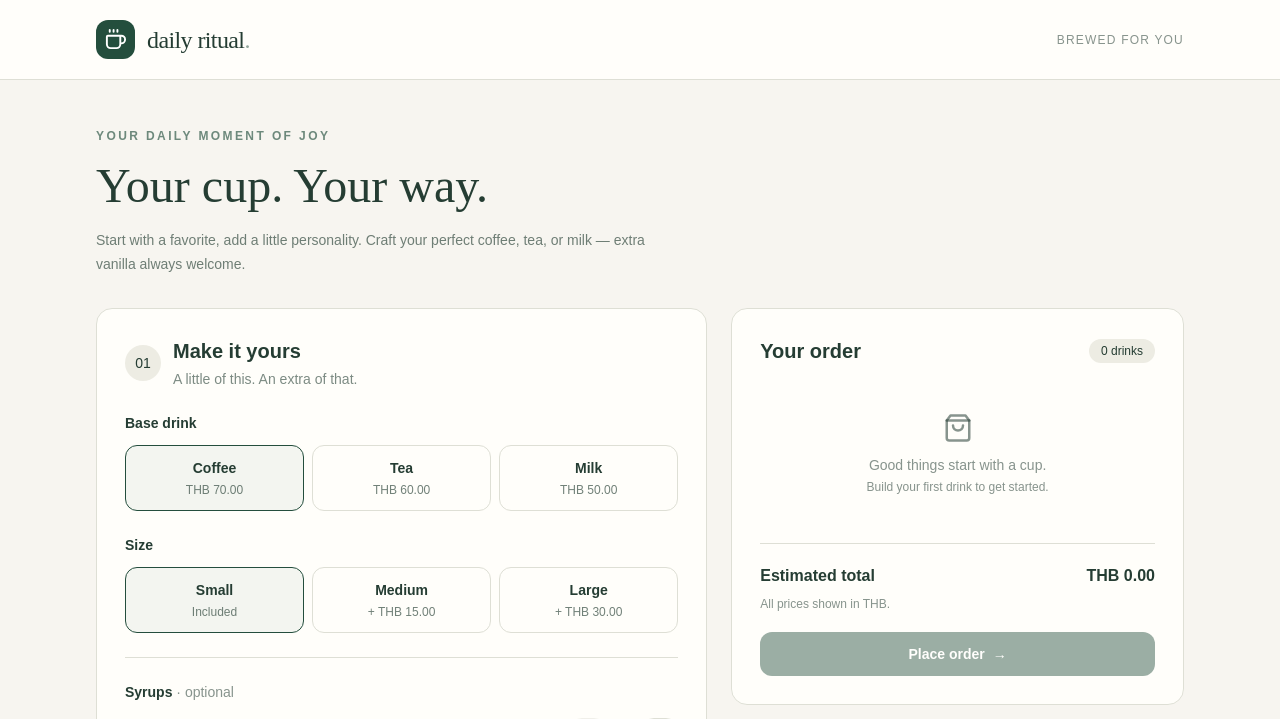
Scenario: Coffee ordering › selects Tea as base
Expected: the heading "Make it yours" is shown, [173, 340, 301, 362]
What coordinates should you click on to do the following:
click the radio button labelled "Tea THB 60.00"
I would click on:
 (402, 478)
Its box is [312, 445, 491, 511].
(page scrolled)
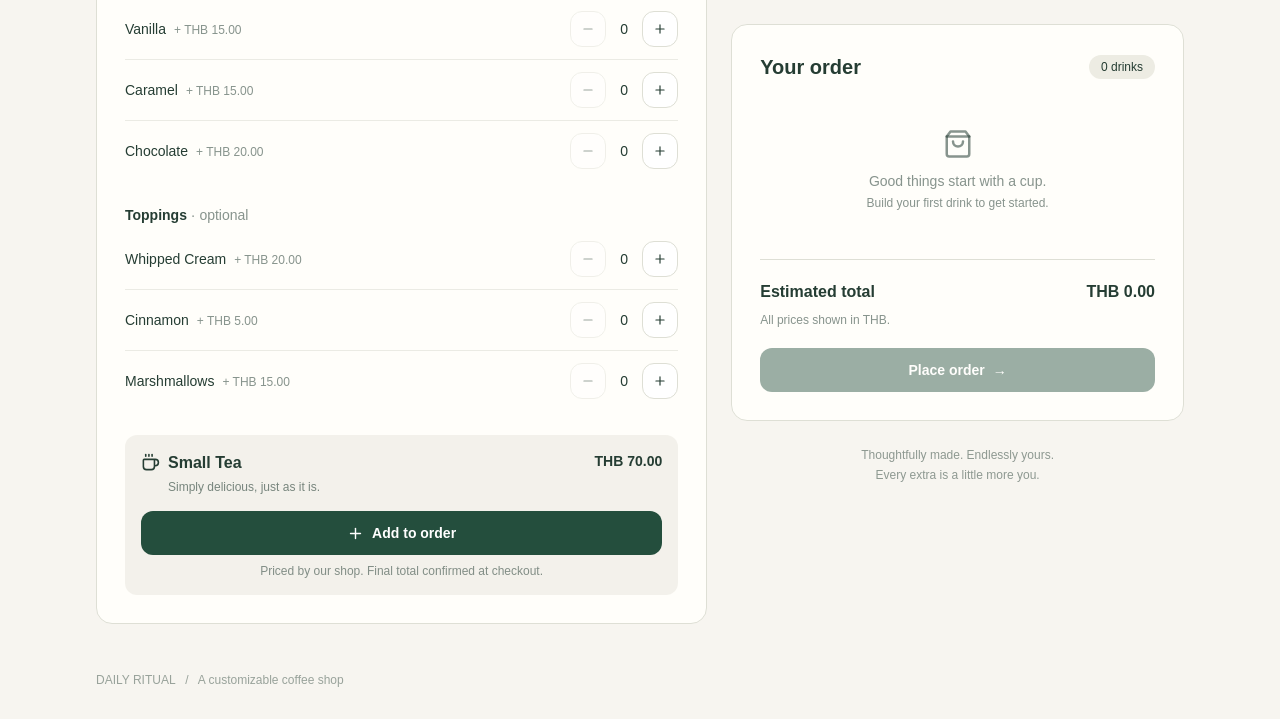
Expected: the heading "Small Tea" is shown, [168, 454, 242, 471]
